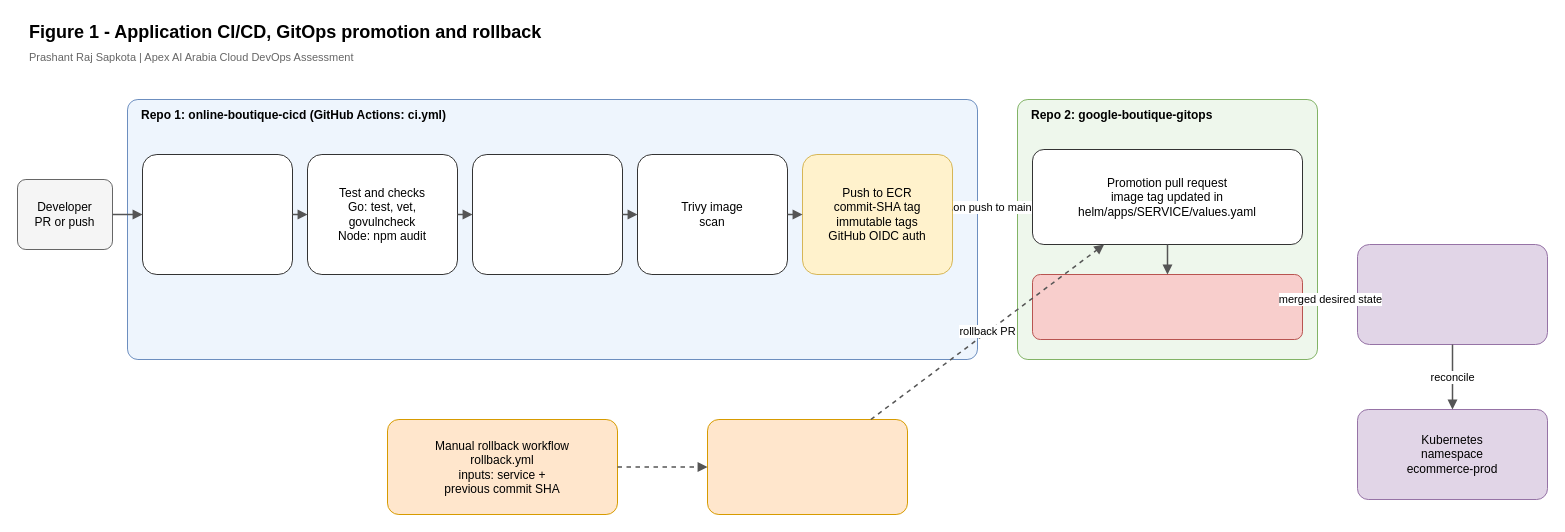
This 1565x532 diagram has some shape labels left out. Each missing label, with the centre of its shape:
"Argo CD ApplicationSet auto-sync, prune, self-heal" belongs at (x=1452, y=294).
"Detect changed services (frontend, paymentservice)" belongs at (x=217, y=214).
"Docker build per changed service" belongs at (x=547, y=214).
"Human review and merge" belongs at (x=1167, y=307).
"Verify image exists in ECR" belongs at (x=807, y=466).
